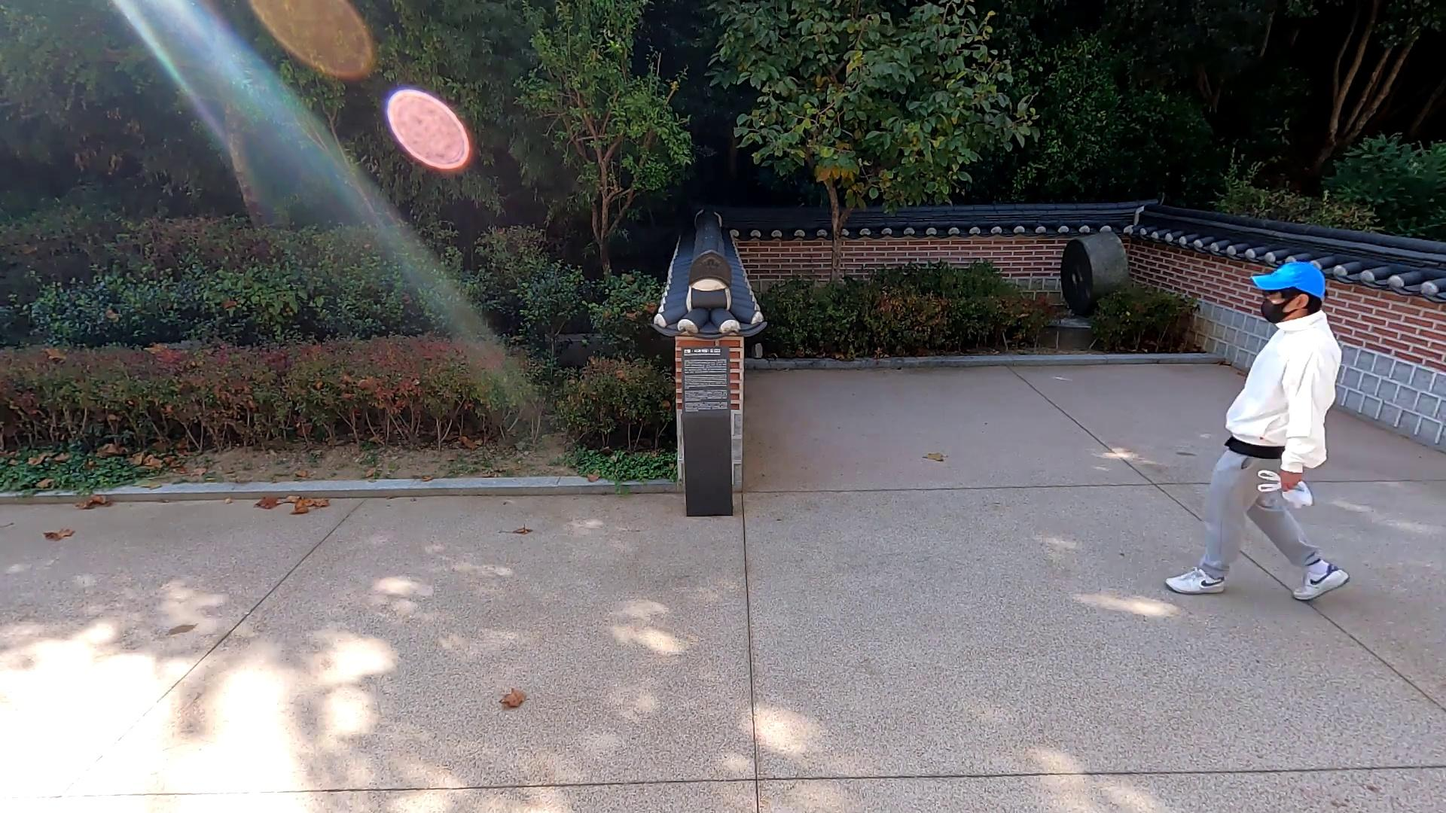person: (1154, 242, 1372, 617)
